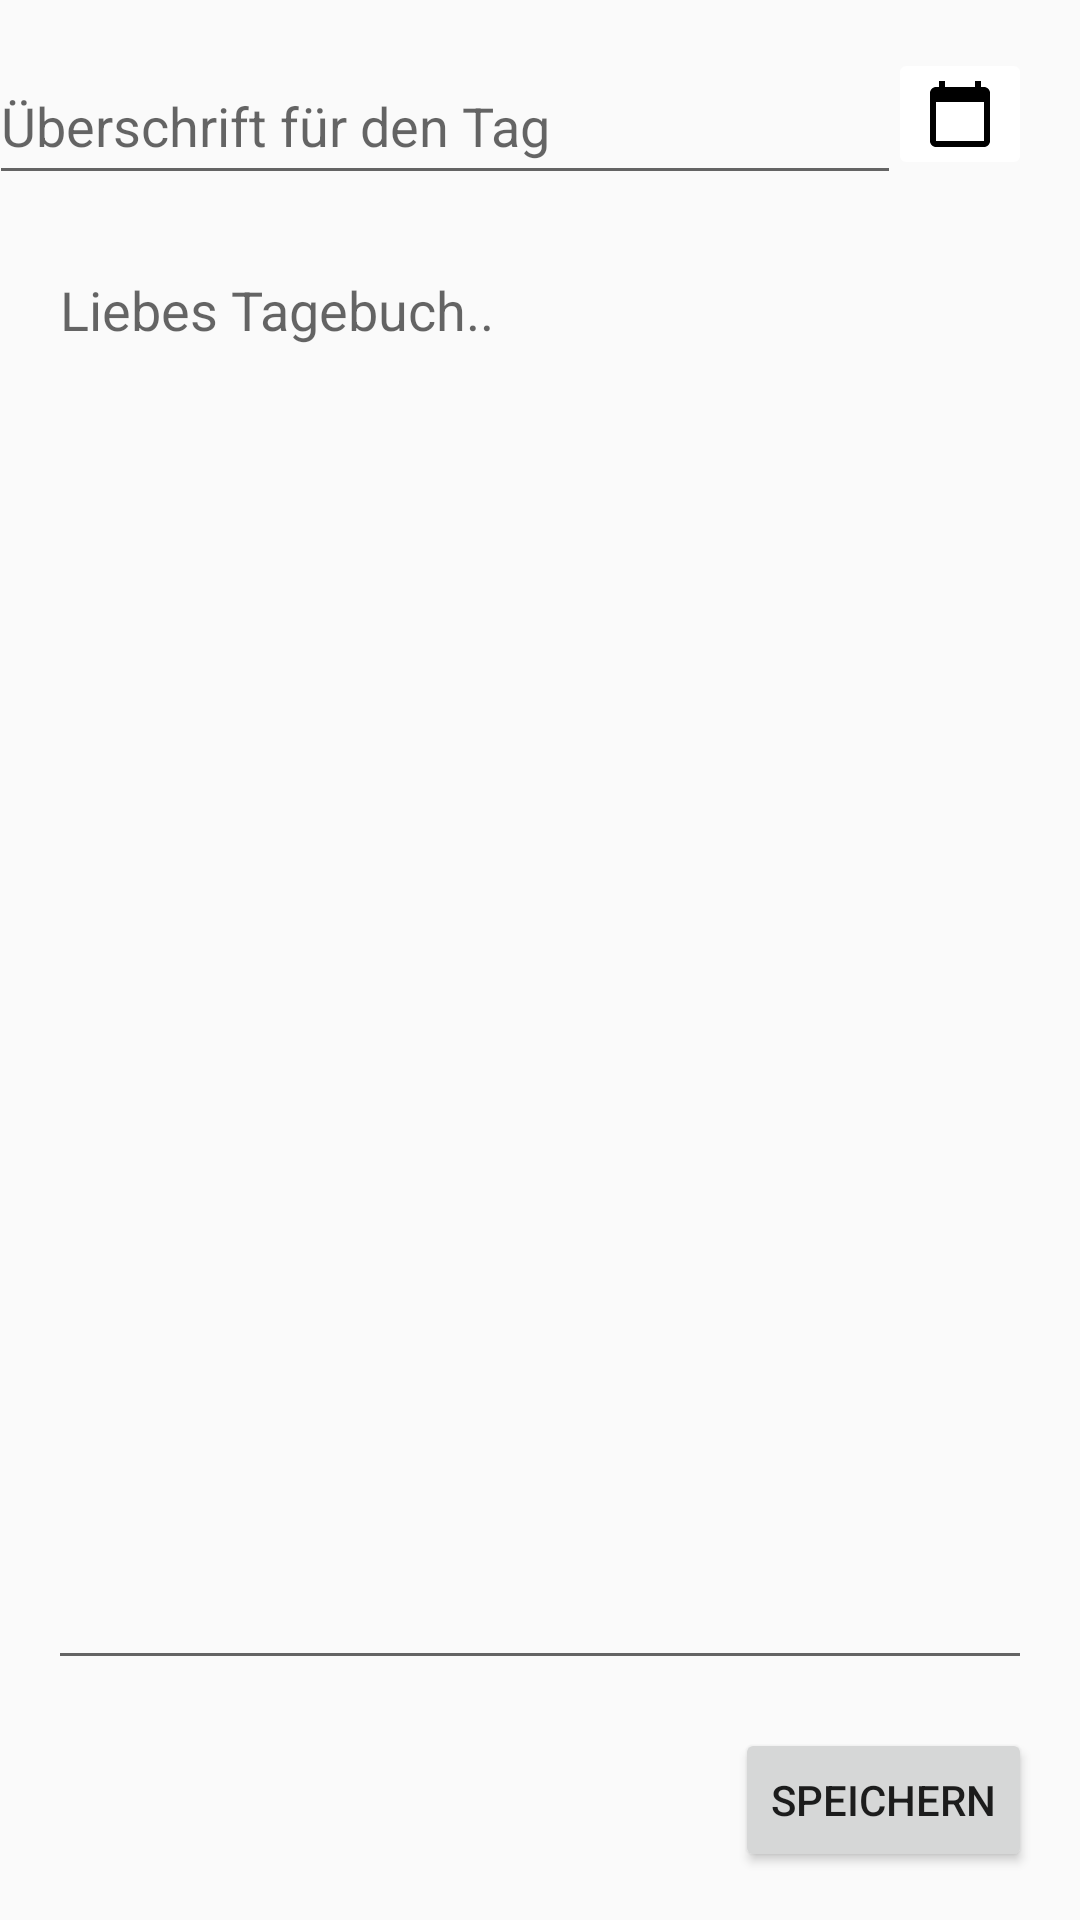

Icons on this 1080x1920 Android screen, each with the point to tap as [x,y]:
calendar today: [960,114]
